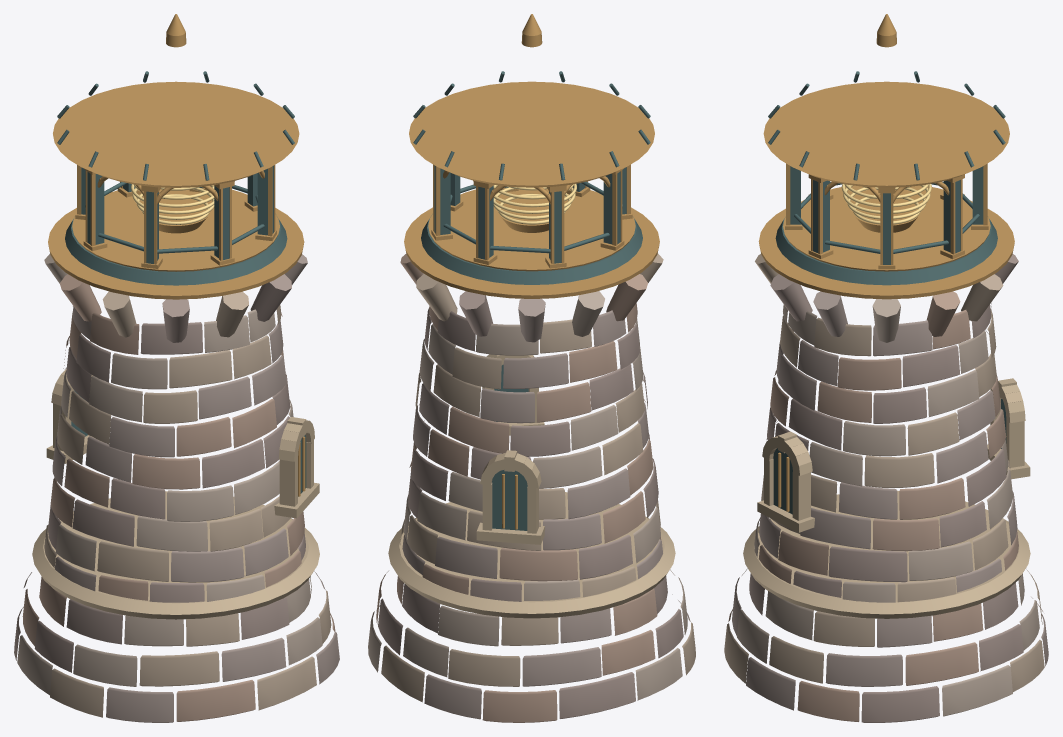
File: north-bank-fittings.glb
3 views of the same model, side by side, from view 1: azimuth 30°, elevation 25°; view 2: azimuth 150°, elevation 25°; view 3: azimuth 270°, elevation 25° (orthographic).
Parts seen in each view (by area): view 1: Honey bronze, Hewn stone 0, Hewn stone 3, Hewn stone 1, Hewn stone 2, Hewn stone 4, Buff ledge, Sea green enamel, Lens ribs; view 2: Honey bronze, Hewn stone 2, Hewn stone 4, Hewn stone 3, Hewn stone 0, Hewn stone 1, Buff ledge, Sea green enamel, Lens ribs; view 3: Honey bronze, Hewn stone 2, Hewn stone 4, Hewn stone 1, Hewn stone 3, Hewn stone 0, Buff ledge, Sea green enamel, Lens ribs.
Boxes of the visible parts, left/top/right/bottom form: Honey bronze: left=48, top=14, right=305, bottom=496; Hewn stone 0: left=44, top=291, right=331, bottom=717; Hewn stone 3: left=17, top=253, right=322, bottom=695; Hewn stone 1: left=14, top=274, right=305, bottom=672; Hewn stone 2: left=23, top=254, right=339, bottom=722; Hewn stone 4: left=22, top=274, right=335, bottom=721; Buff ledge: left=32, top=369, right=319, bottom=619; Sea green enamel: left=57, top=71, right=306, bottom=496; Lens ribs: left=131, top=184, right=214, bottom=224; Honey bronze: left=404, top=14, right=659, bottom=529; Hewn stone 2: left=402, top=298, right=690, bottom=719; Hewn stone 4: left=376, top=254, right=661, bottom=722; Hewn stone 3: left=368, top=291, right=687, bottom=700; Hewn stone 0: left=381, top=253, right=695, bottom=702; Hewn stone 1: left=376, top=291, right=683, bottom=718; Buff ledge: left=388, top=354, right=675, bottom=618; Sea green enamel: left=413, top=71, right=650, bottom=530; Lens ribs: left=493, top=184, right=576, bottom=224; Honey bronze: left=758, top=14, right=1014, bottom=511; Hewn stone 2: left=732, top=291, right=1048, bottom=710; Hewn stone 4: left=728, top=291, right=1042, bottom=721; Hewn stone 1: left=749, top=254, right=1023, bottom=722; Hewn stone 3: left=737, top=299, right=1039, bottom=716; Hewn stone 0: left=724, top=254, right=1044, bottom=691; Buff ledge: left=743, top=378, right=1030, bottom=618; Sea green enamel: left=768, top=71, right=1006, bottom=514; Lens ribs: left=841, top=184, right=931, bottom=224.
Bounding box in the file's own units: 2.68 × 5.86 × 2.69.
